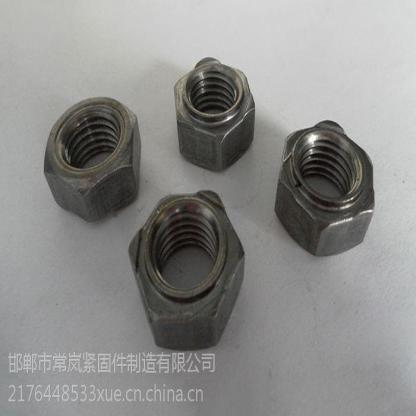FOD: (127, 184, 247, 357), (272, 117, 376, 259), (43, 93, 141, 224), (172, 54, 258, 176)
